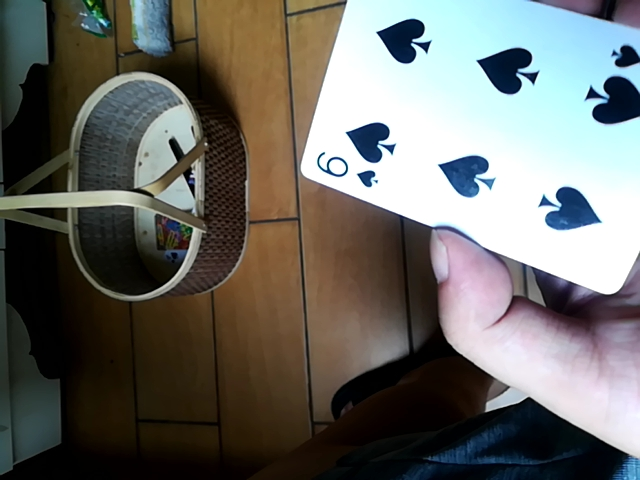ht 6: (294, 4, 638, 298)
